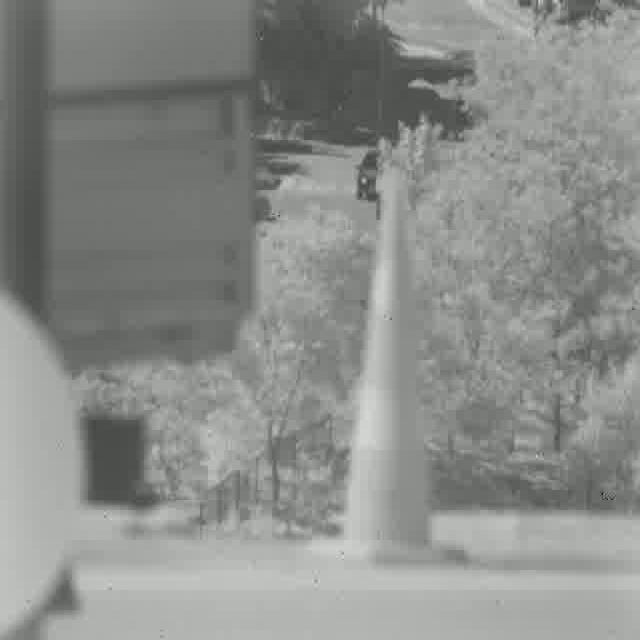Car: (0, 1, 254, 366), (355, 150, 396, 206)
